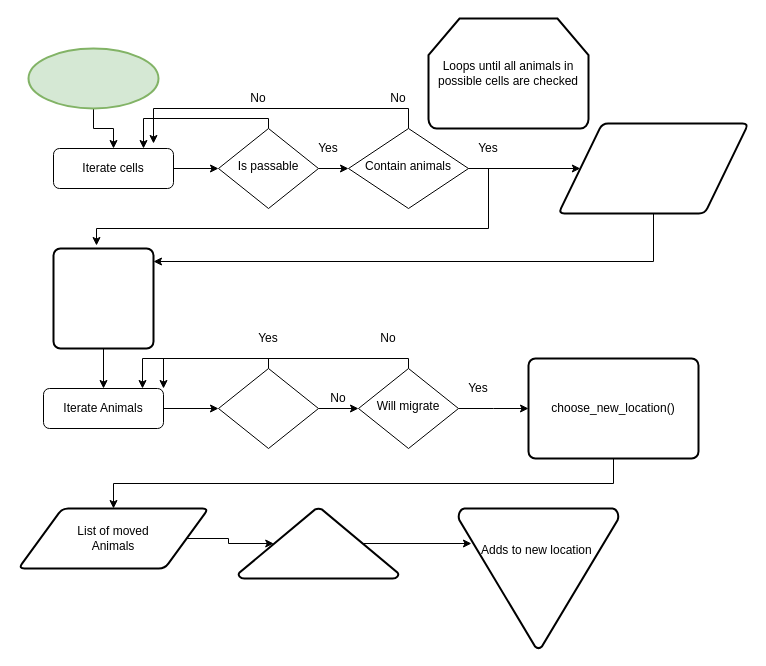
Some shapes in this 766 by 666 pixel diagram are drawn without their labels. The shapes that lost their labels are listed below. From the top down, each one's centre as x and y in pixels, then its label:
At (x=93, y=78): "Island.migrate()".
At (x=653, y=168): "Calculates probabilities for moving to all neighbour cells".
At (x=103, y=298): "Cell.migrate()".
At (x=268, y=408): "Has already moved".
At (x=318, y=543): "removes from curent cell".
